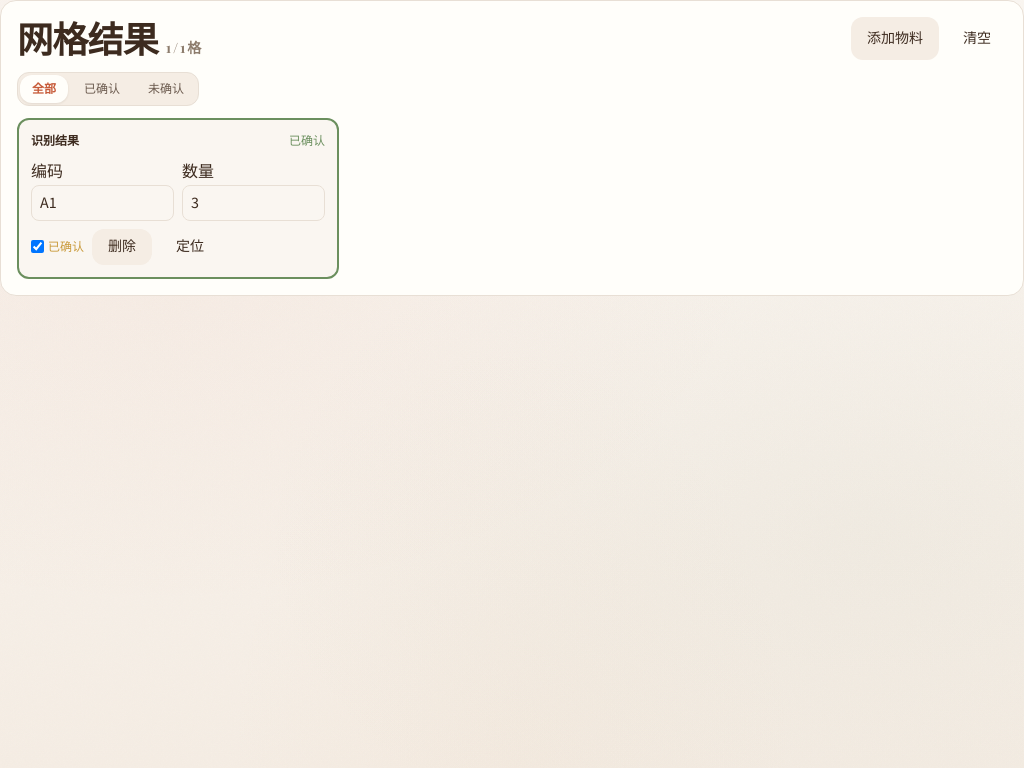
it: GridPanel › shows an empty message when the filter matches nothing and disables manual add
Step 1. Click the button "未确认" → (166, 89), box left=136, top=75, right=196, bottom=103
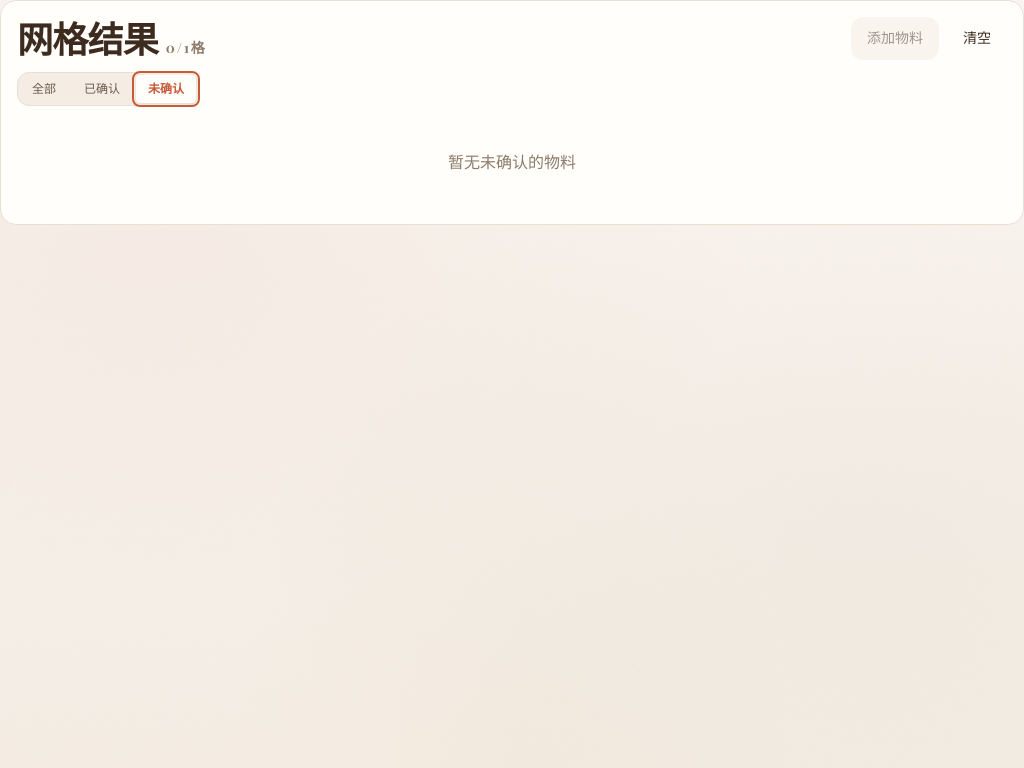
Expected: the text "暂无未确认的物料" is shown, left=448, top=152, right=576, bottom=173
Expected: the button "添加物料" is disabled, left=851, top=17, right=939, bottom=60
